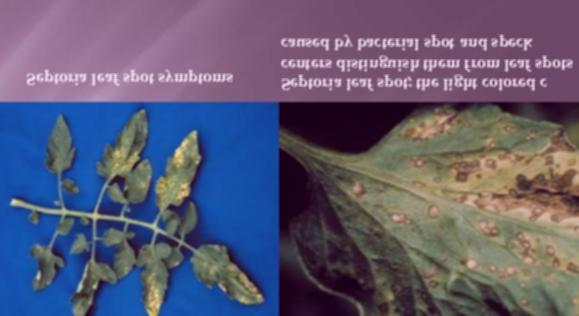Tomato Septoria leaf spot: (293, 106, 579, 316), (188, 232, 266, 313), (94, 108, 170, 182), (147, 131, 205, 214), (132, 233, 176, 316)
